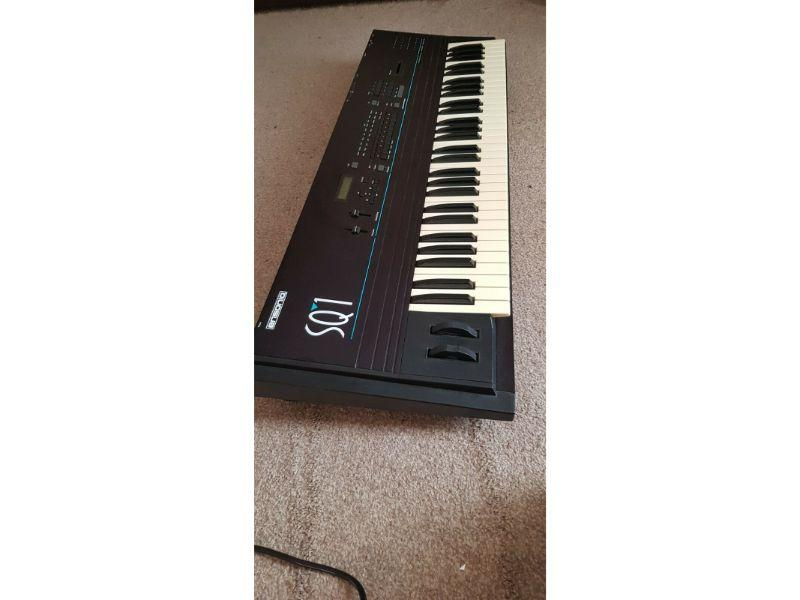synthesizer: (263, 25, 527, 424)
